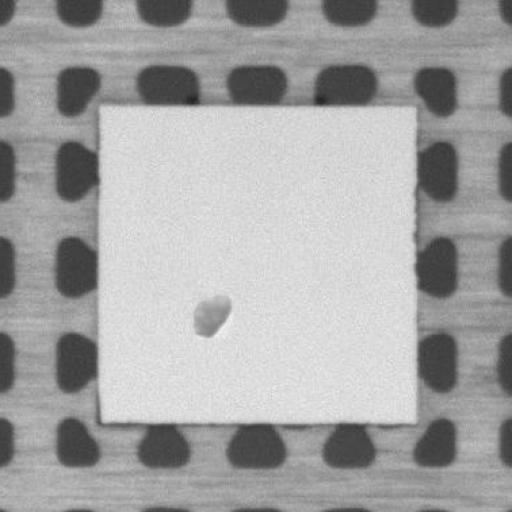DIE_INK: (185, 288, 234, 342)
